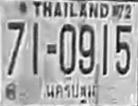0: (58, 24, 76, 74)
1: (34, 21, 39, 76), (103, 24, 108, 77)
5: (116, 24, 132, 76)
7: (7, 22, 25, 75)
9: (78, 24, 95, 74)
NPT: (42, 81, 97, 104)
